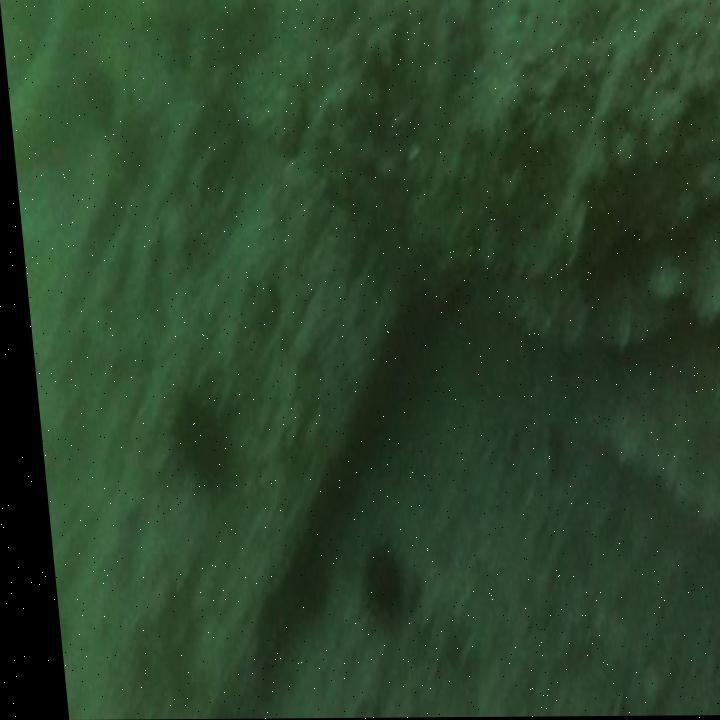echinus: (151, 376, 242, 506), (340, 529, 405, 640)
